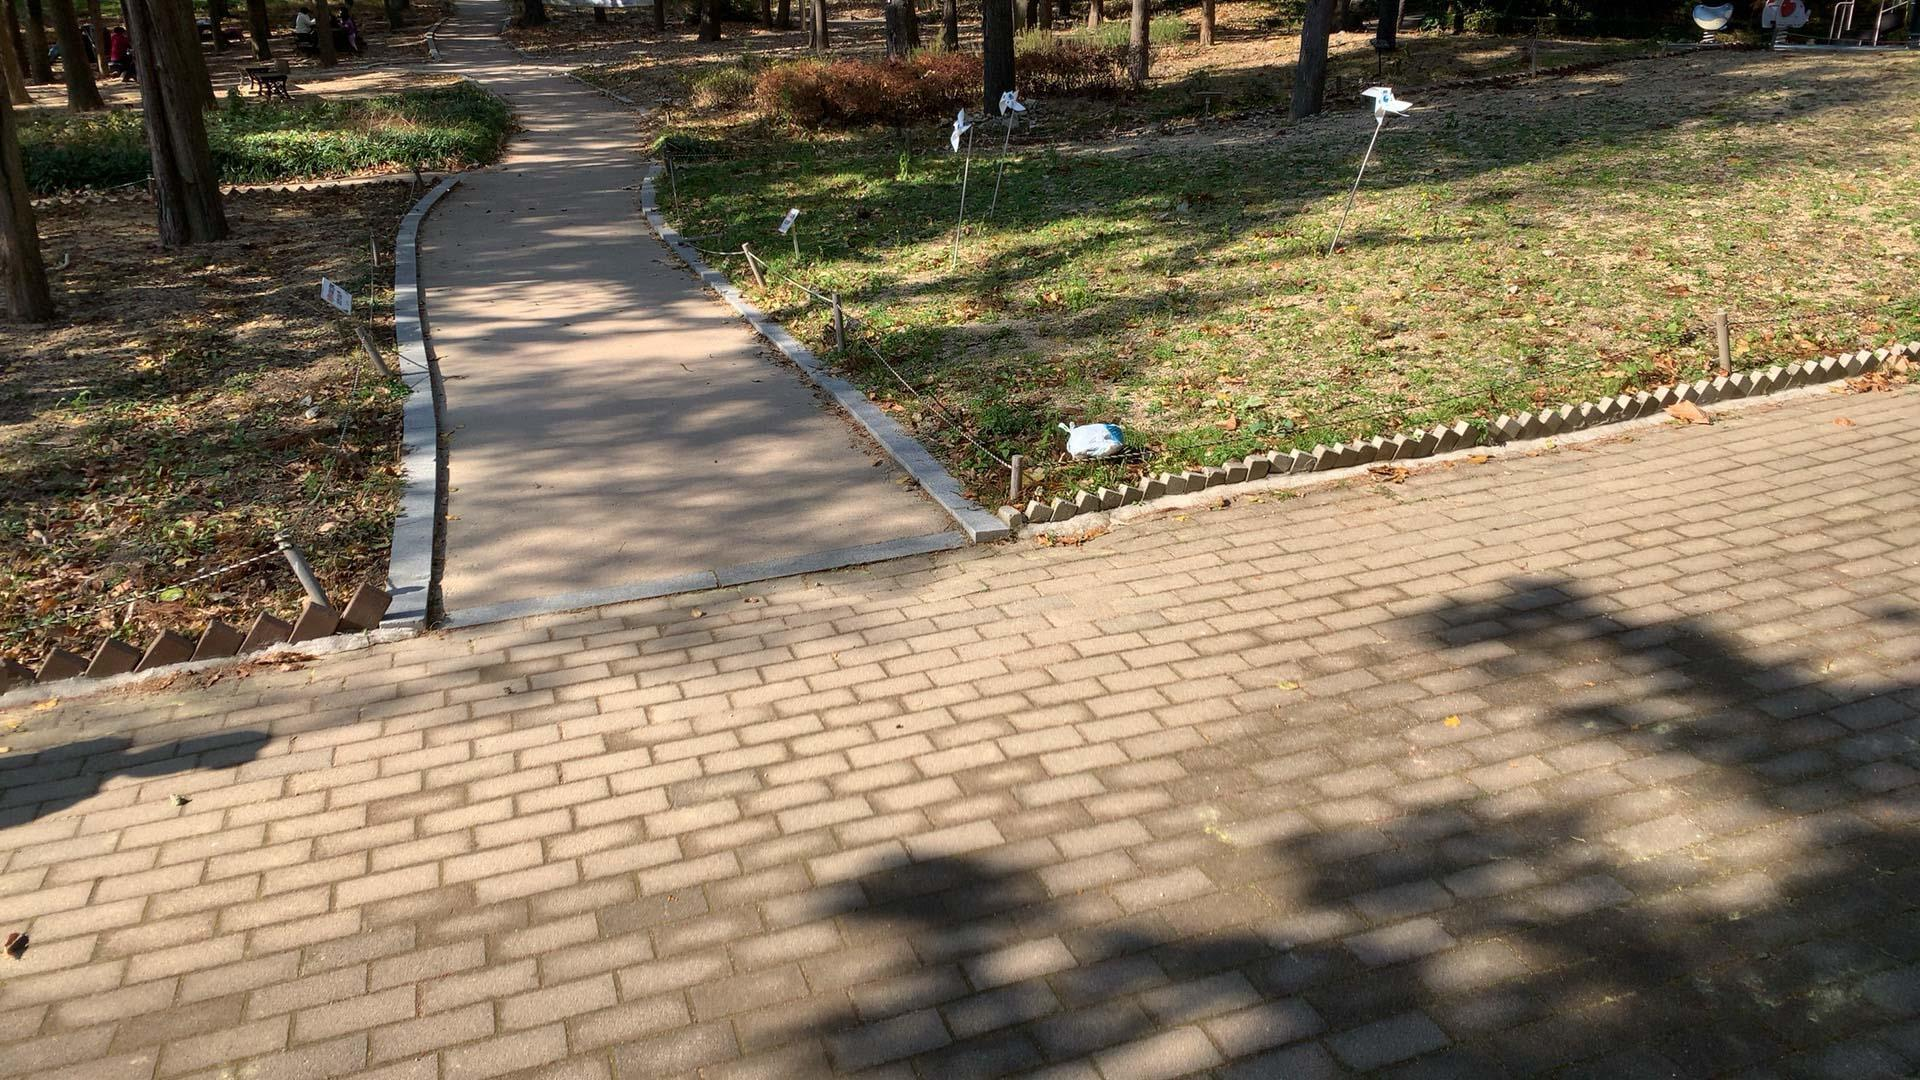white_bag: (1054, 414, 1127, 462)
